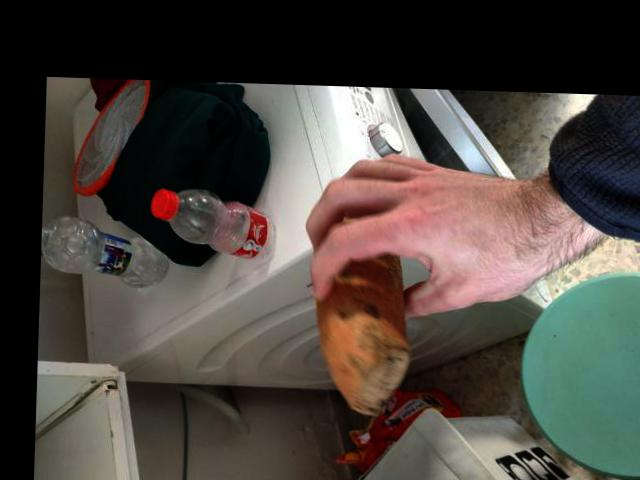sweet_potato: (321, 224, 431, 367)
